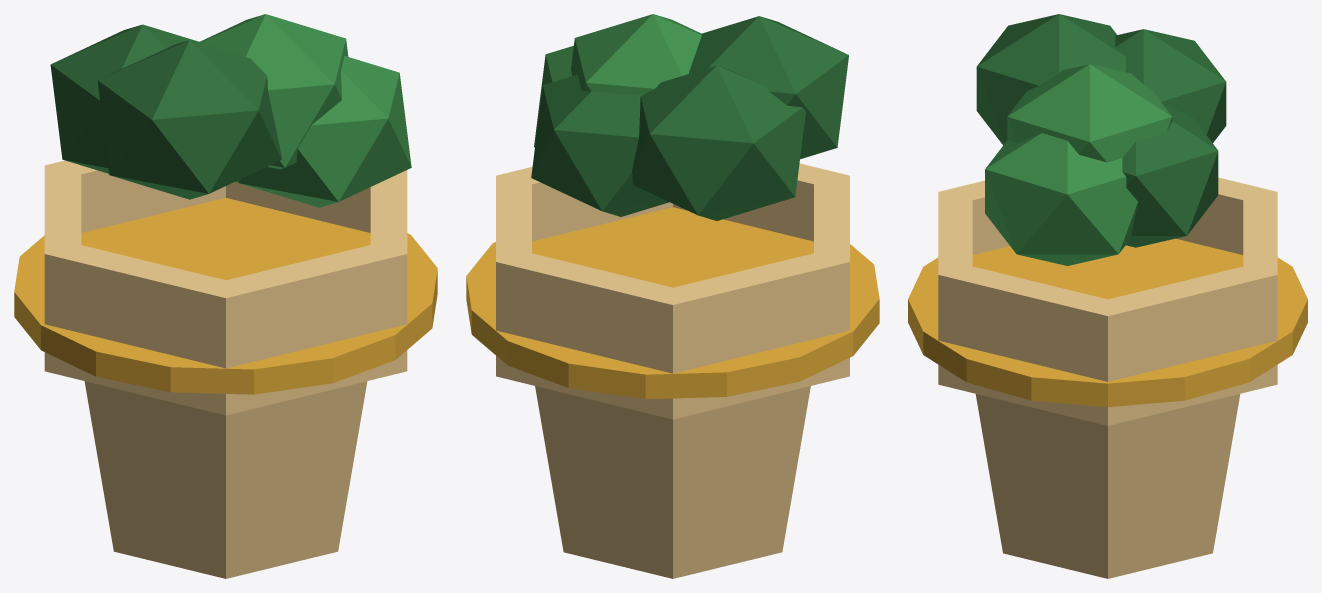
File: decoracao-vaso-n2.glb
The picture shows the model from 3 angles, left to right: view 1: azimuth 30°, elevation 25°; view 2: azimuth 150°, elevation 25°; view 3: azimuth 270°, elevation 25°; orthographic projection. The views are drawn at different scales.
Visible parts, largest first — view 1: pot_small, Icosphere.004, Cylinder, Icosphere.001, Icosphere.003, Icosphere; view 2: pot_small, Icosphere, Cylinder, Icosphere.002, Icosphere.004, Icosphere.003, Icosphere.001; view 3: pot_small, Cylinder, Icosphere.001, Icosphere.003, Icosphere.002, Icosphere.004, Icosphere.
Part boxes in pixels (left/top/right/bottom): pot_small: left=44, top=160, right=407, bottom=578; Icosphere.004: left=97, top=40, right=281, bottom=199; Cylinder: left=14, top=233, right=437, bottom=394; Icosphere.001: left=238, top=56, right=411, bottom=207; Icosphere.003: left=199, top=14, right=348, bottom=169; Icosphere: left=50, top=24, right=199, bottom=173; pot_small: left=496, top=163, right=849, bottom=578; Icosphere: left=632, top=65, right=805, bottom=220; Cylinder: left=466, top=242, right=879, bottom=399; Icosphere.002: left=531, top=74, right=669, bottom=216; Icosphere.004: left=689, top=16, right=848, bottom=159; Icosphere.003: left=571, top=14, right=701, bottom=97; Icosphere.001: left=534, top=45, right=573, bottom=147; pot_small: left=938, top=177, right=1277, bottom=578; Cylinder: left=908, top=257, right=1307, bottom=406; Icosphere.001: left=985, top=133, right=1137, bottom=265; Icosphere.003: left=1007, top=64, right=1172, bottom=162; Icosphere.002: left=1122, top=104, right=1218, bottom=247; Icosphere.004: left=976, top=14, right=1125, bottom=145; Icosphere: left=1115, top=29, right=1226, bottom=142.
Bounding box in the file's own units: 0.3299 × 0.4418 × 0.3299.
